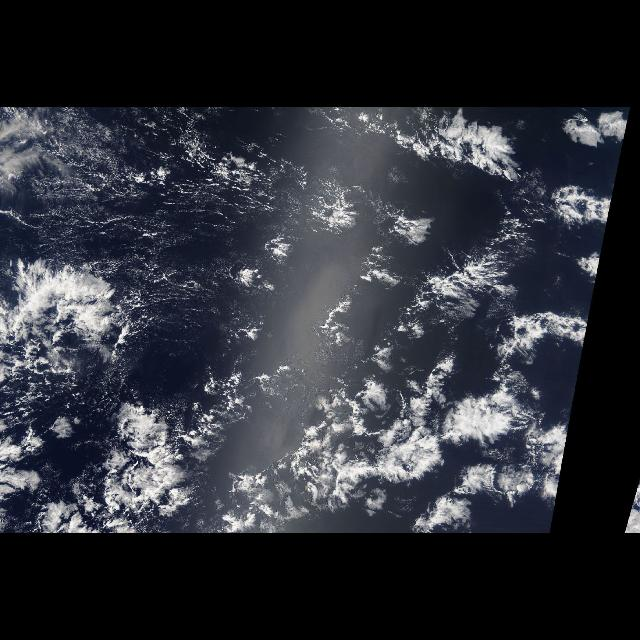Flower: (4, 187, 596, 533)
